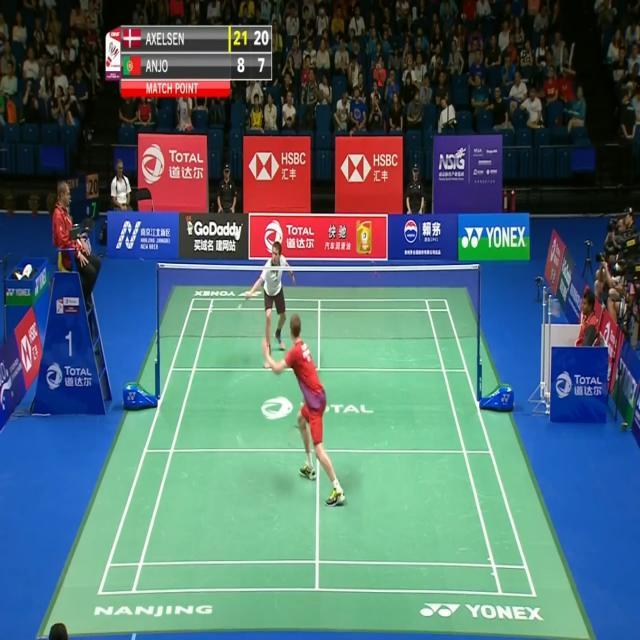Player1: (260, 312, 348, 510)
Player2: (247, 238, 297, 364)
